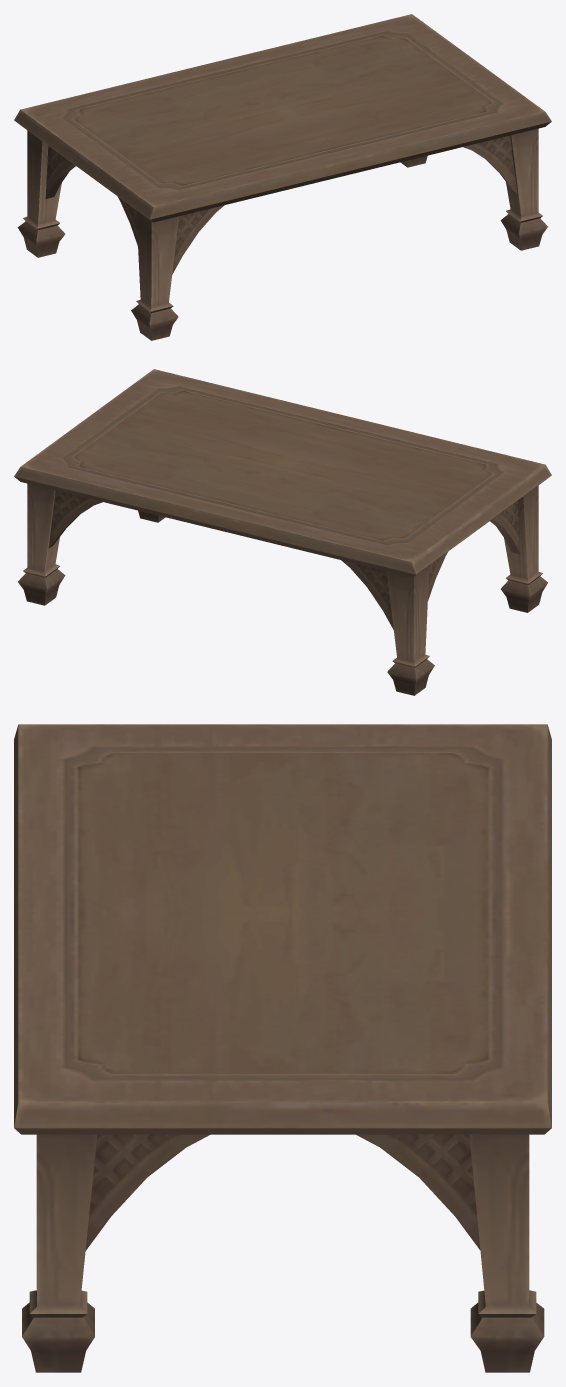
Rendered from Homeworld_Interior_Xm_Table_Prop_Barbecue_03_Vo.fbx.
3 renders of one model, top to bottom at view 1: azimuth 30°, elevation 25°; view 2: azimuth 150°, elevation 25°; view 3: azimuth 270°, elevation 25°, orthographic. The views are drawn at different scales.
Parts seen in each view (by area): view 1: Indoor_Xm_Prop_Barbecue_Decoration_09_Vo; view 2: Indoor_Xm_Prop_Barbecue_Decoration_09_Vo; view 3: Indoor_Xm_Prop_Barbecue_Decoration_09_Vo.
Boxes of the visible parts, left/top/right/bottom form: Indoor_Xm_Prop_Barbecue_Decoration_09_Vo: left=14, top=14, right=551, bottom=340; Indoor_Xm_Prop_Barbecue_Decoration_09_Vo: left=14, top=369, right=551, bottom=695; Indoor_Xm_Prop_Barbecue_Decoration_09_Vo: left=14, top=724, right=551, bottom=1372.
Size of the model in its own units: 2.38 by 0.7774 by 1.39.
